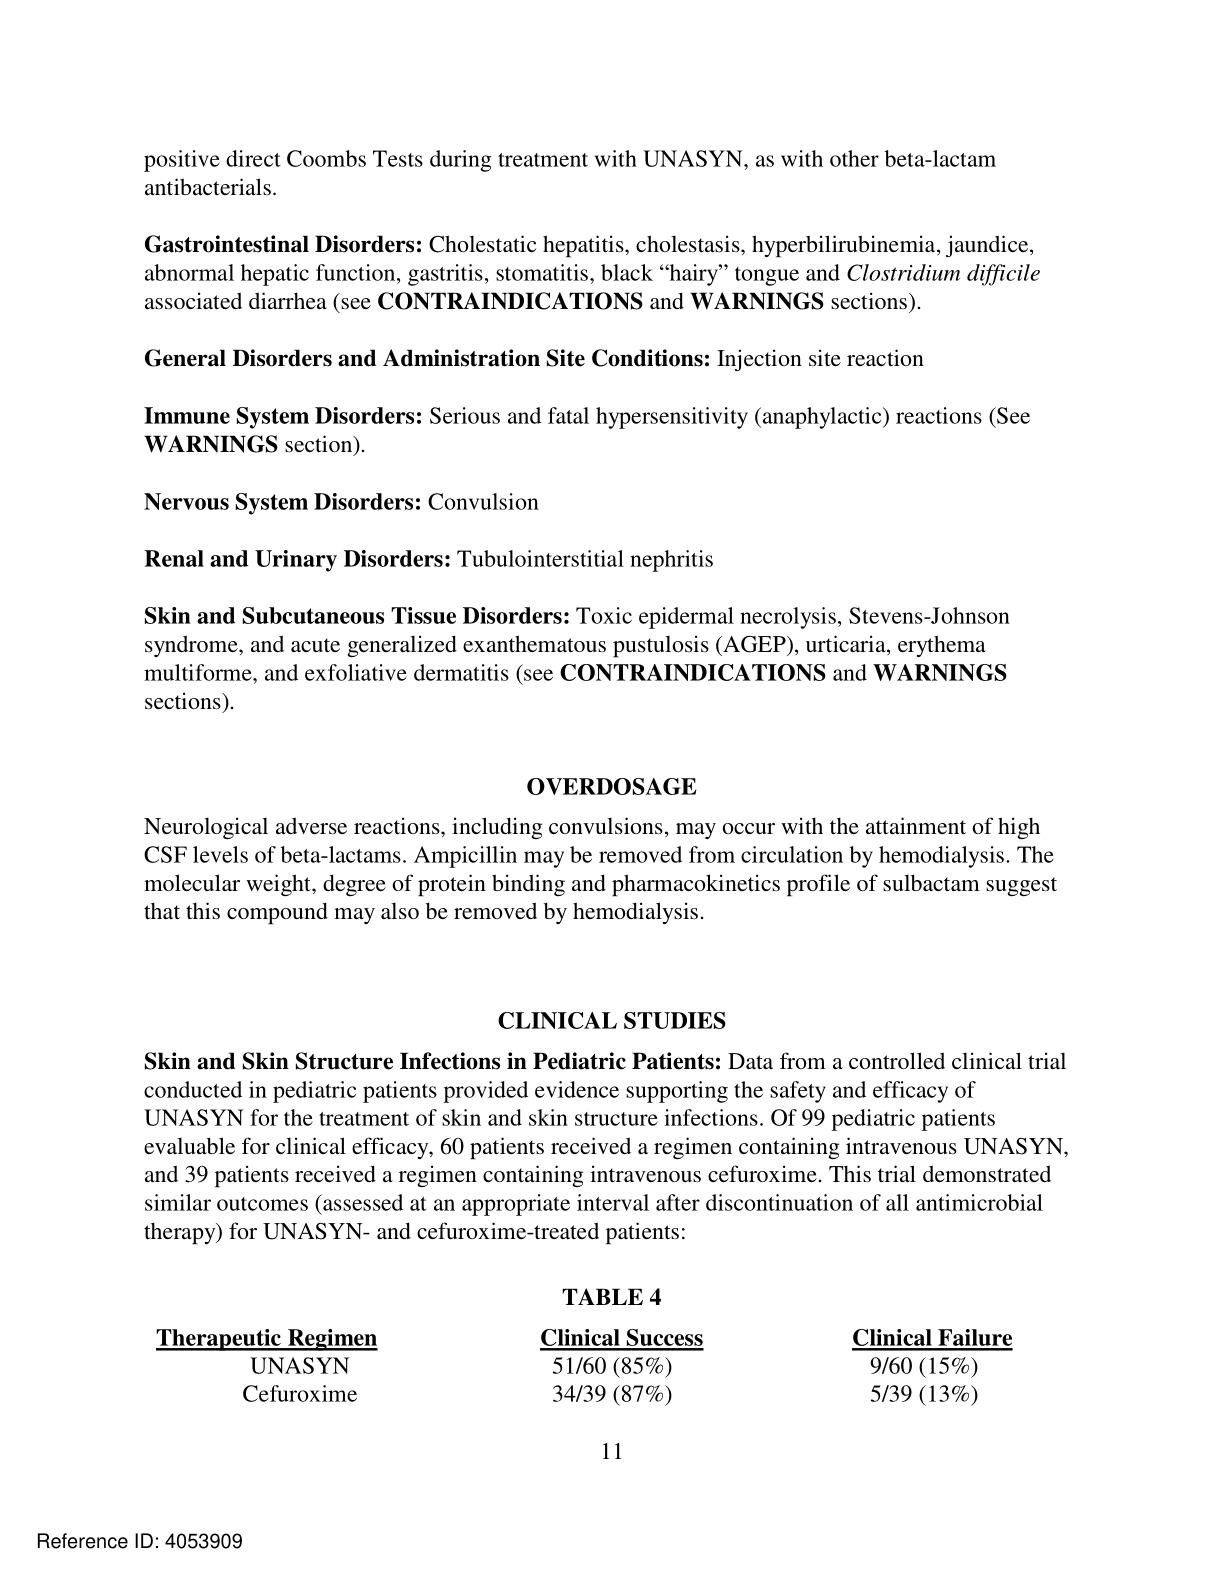nolines: (152, 1323, 1018, 1408)
